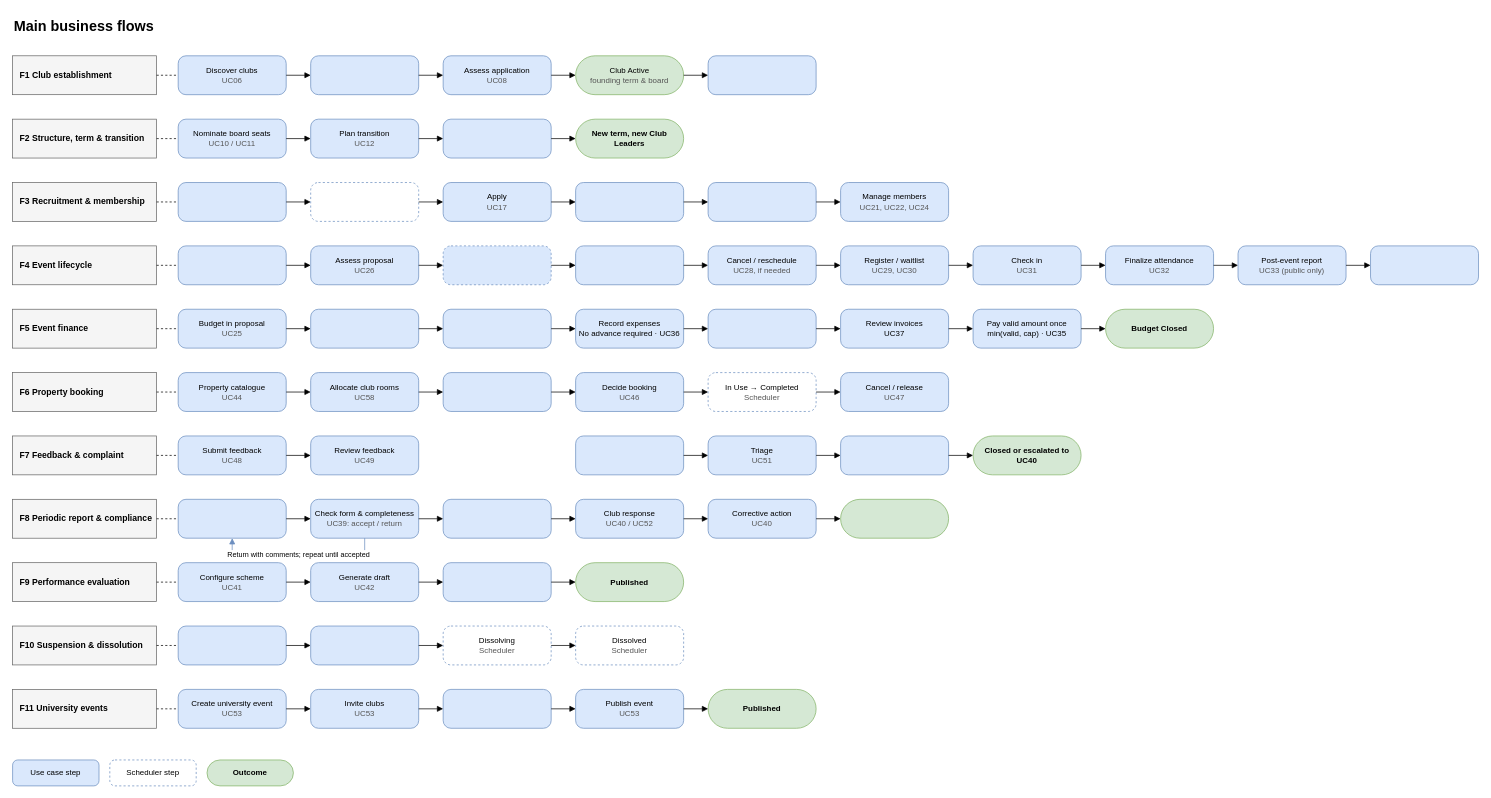
The diagram is 1491 pixels wide and 798 high, and some of its shapes have lost their labels. Here are the shapes that lost their labels. From the top down, the centre of each, then its label:
point (364, 75): Submit application UC07
point (761, 75): Complete profile & units UC09
point (496, 138): Confirm transition UC13
point (231, 201): Publish campaign UC16
point (364, 201): Open / close window Scheduler
point (629, 201): Screen & evaluate UC18, UC19
point (761, 201): Onboard UC20
point (231, 265): Proposal / Create internal UC25
point (496, 265): Defense session optional, BR63
point (629, 265): Publish & open registration UC27
point (1424, 265): Assess & close report UC34
point (364, 328): Funding decision + cap UC26
point (496, 328): Notify funding results UC02 / UC26
point (761, 328): Full invoice pack Proposal details · UC36
point (496, 391): Booking request UC45
point (629, 455): Submit complaint UC50
point (894, 455): Club responds UC52
point (231, 518): Submit / resubmit report UC38 (incl. internal FINISH)
point (496, 518): Violation case UC40
point (894, 518): Resolved
point (496, 582): Review & finalize UC43
point (231, 645): Request suspension UC14
point (364, 645): Suspend / reactivate / dissolve UC15
point (496, 708): Clubs accept / decline UC54
